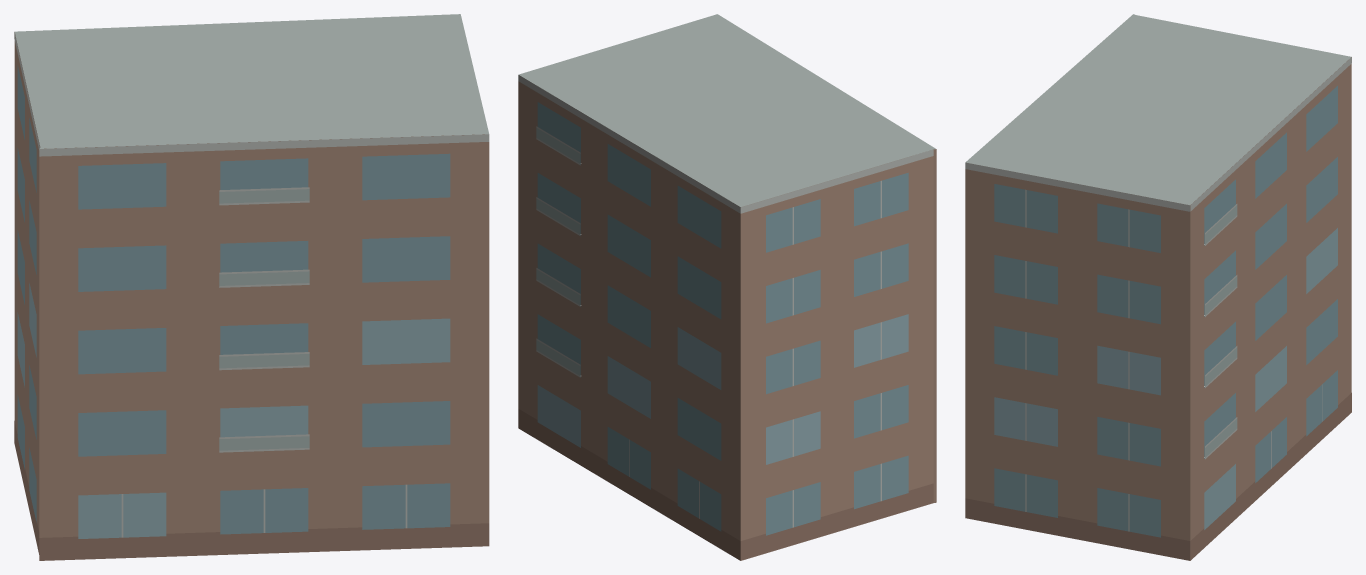
The model's file is survey-upis-32852750.glb.
The picture shows the model from 3 angles, left to right: view 1: azimuth 30°, elevation 25°; view 2: azimuth 150°, elevation 25°; view 3: azimuth 270°, elevation 25°; orthographic projection. The views are drawn at different scales.
Visible parts, largest first — view 1: survey-upis-32852750.tmp; view 2: survey-upis-32852750.tmp; view 3: survey-upis-32852750.tmp.
Boxes of the visible parts, x1=… form: survey-upis-32852750.tmp: x1=14, y1=14, x2=489, y2=560; survey-upis-32852750.tmp: x1=518, y1=14, x2=936, y2=560; survey-upis-32852750.tmp: x1=965, y1=14, x2=1351, y2=560.
Size of the model in its own units: 15.24 by 13.2 by 13.01.
